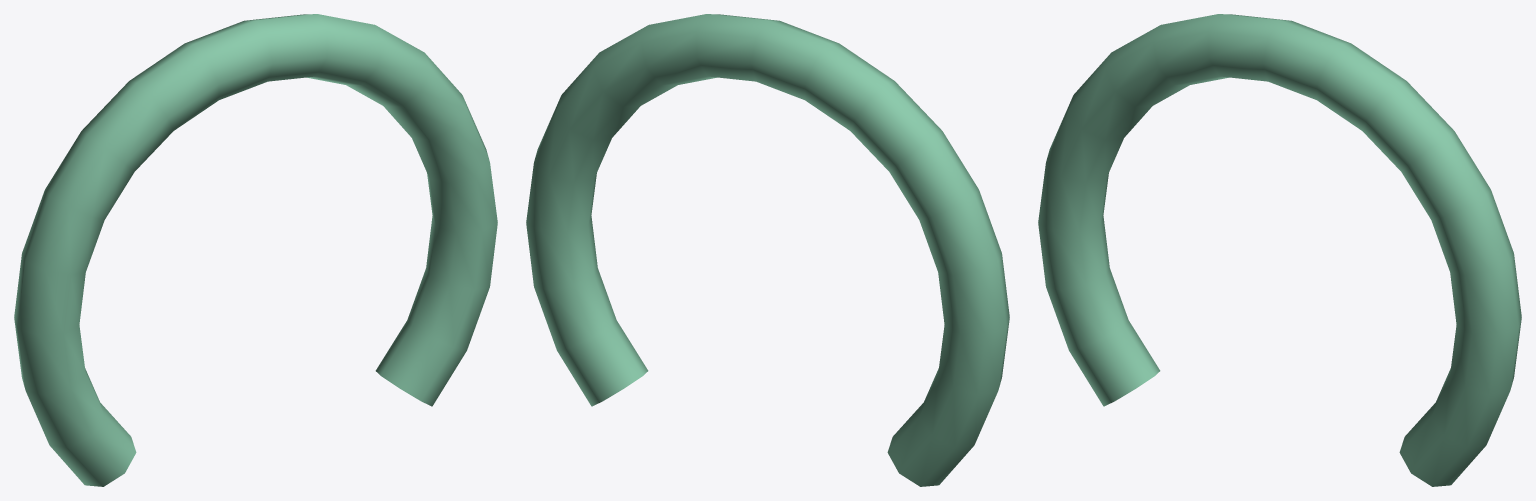
File: superior_semicircular_canal.glb
3 views of the same model, side by side, from view 1: azimuth 30°, elevation 25°; view 2: azimuth 150°, elevation 25°; view 3: azimuth 330°, elevation 25° (orthographic).
Parts seen in each view (by area): view 1: SAMPLE superior_semicircular_canal; view 2: SAMPLE superior_semicircular_canal; view 3: SAMPLE superior_semicircular_canal.
Part boxes in pixels (x1,y1,x2,y2): SAMPLE superior_semicircular_canal: [14, 14, 497, 486]; SAMPLE superior_semicircular_canal: [526, 14, 1009, 486]; SAMPLE superior_semicircular_canal: [1038, 14, 1521, 486].
Size of the model in its own units: 6.84 by 5.8 by 0.84.
